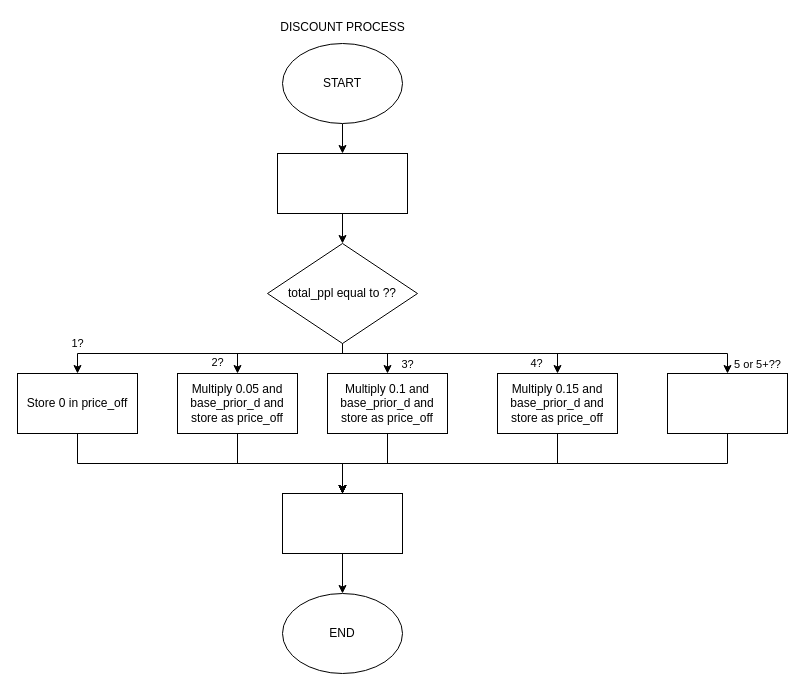
Image size: 805x691. Some labels were removed from this diagram. The shapes that lost their labels are listed below. From the top down, each one's centre as x and y in pixels, then its label:
(342,183): Get total_ppl and base_prior_d from main process
(727,403): Multiply 0.2 and base_prior_d and store as price_off
(342,523): Output (base_prior_d - price_off) and go to main process
